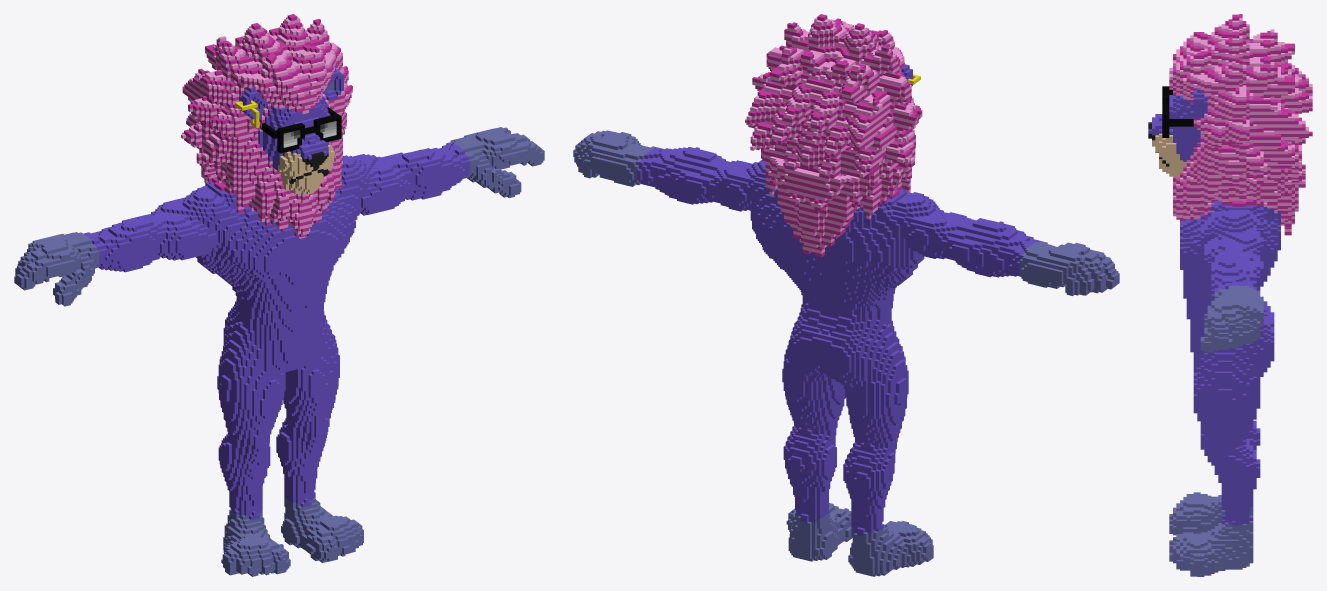
Rendered from 841-F7vdbUFu.glb.
The picture shows the model from 3 angles, left to right: view 1: azimuth 30°, elevation 25°; view 2: azimuth 150°, elevation 25°; view 3: azimuth 270°, elevation 25°; orthographic projection. The views are drawn at different scales.
Parts seen in each view (by area): view 1: sad; view 2: sad; view 3: sad.
Boxes of the visible parts, <box> form: sad: <box>14,14,544,576</box>; sad: <box>573,14,1119,576</box>; sad: <box>1148,14,1312,576</box>.
Size of the model in its own units: 17.2 by 16.5 by 4.7.
5 materials, 5 textured.
